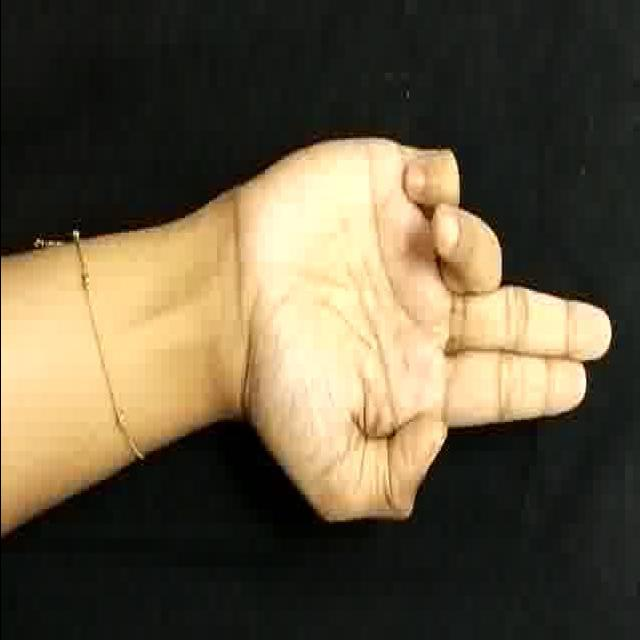ardhpataka: (245, 115, 620, 538)
